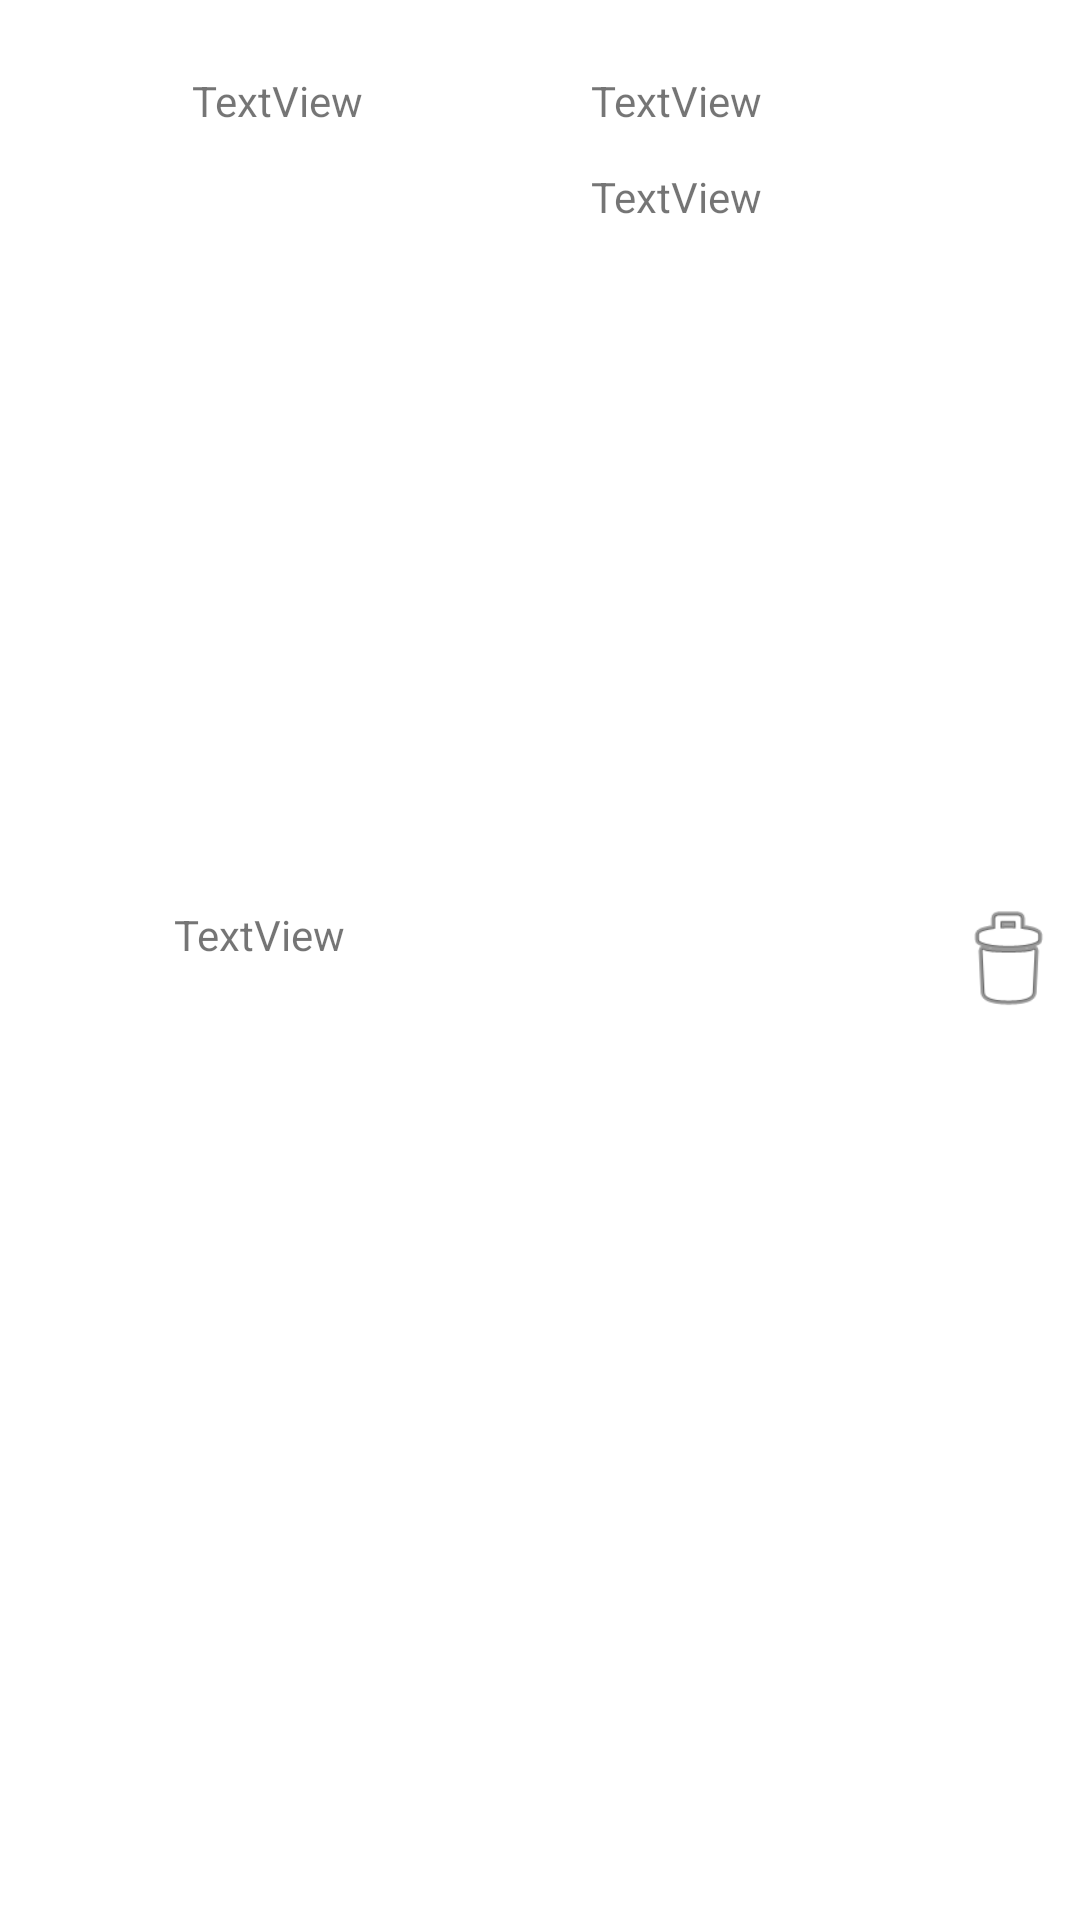

Locate icon controls on the screen. Image size 1080 x 1920, boxes as [x1=x1, y1=y1, x2=x2, y2=y2].
delete: [x1=975, y1=911, x2=1043, y2=1005]
